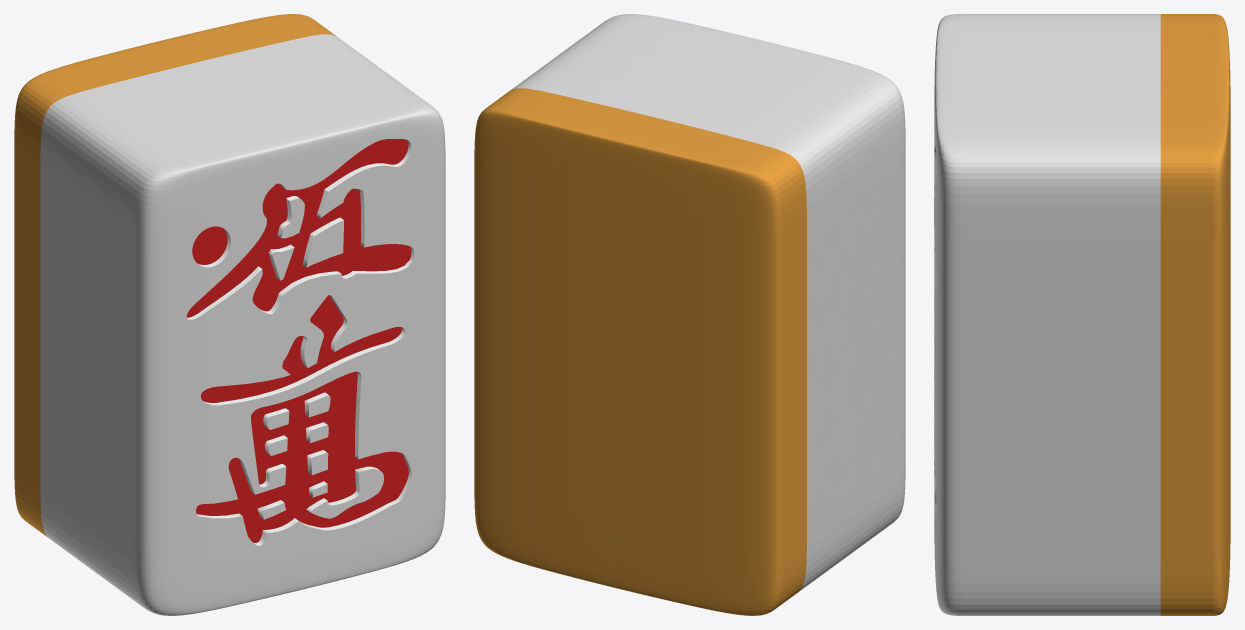
File: Man5Dora.fbx
3 renders of one model, left to right at view 1: azimuth 30°, elevation 25°; view 2: azimuth 150°, elevation 25°; view 3: azimuth 270°, elevation 25°, orthographic. The views are drawn at different scales.
Parts seen in each view (by area): view 1: Man5Dora; view 2: Man5Dora; view 3: Man5Dora.
Part boxes in pixels (x1,y1,x2,y2): Man5Dora: (14, 14, 445, 615); Man5Dora: (474, 14, 905, 615); Man5Dora: (934, 14, 1230, 615).
Size of the model in its own units: 2 by 2.8 by 1.59.
